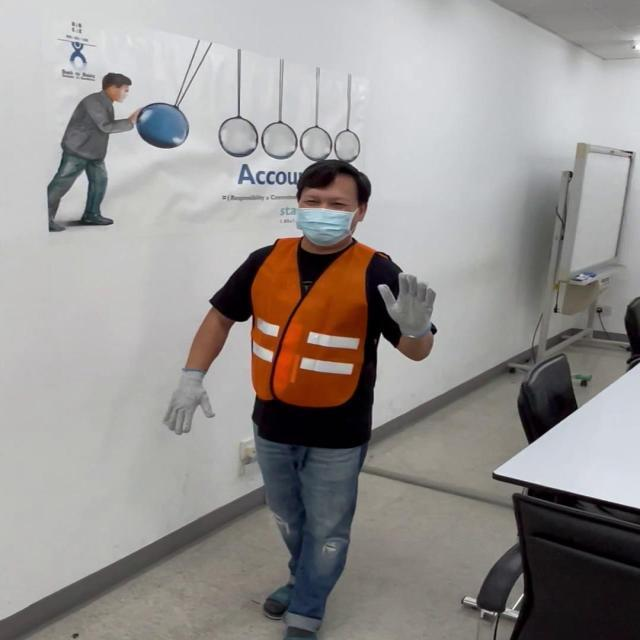gloved_hand: (375, 269, 440, 341), (168, 364, 222, 438)
